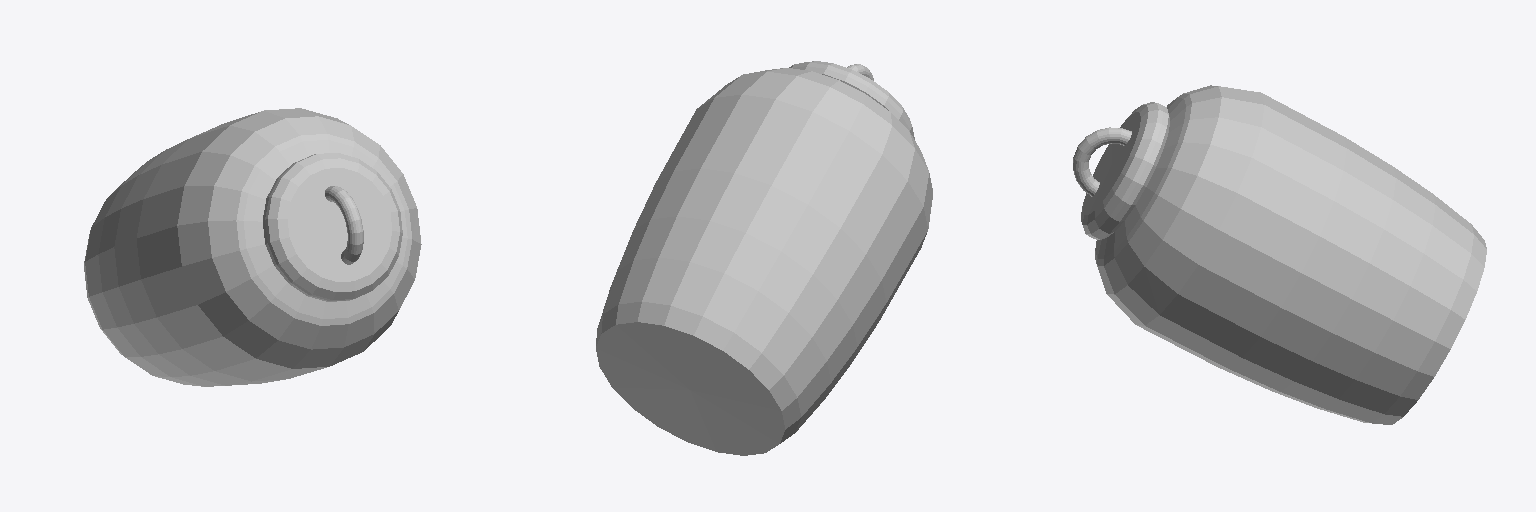
The model's file is Urn_W_2.obj.
The picture shows the model from 3 angles: view 1: azimuth 30°, elevation 25°; view 2: azimuth 150°, elevation 25°; view 3: azimuth 270°, elevation 25°; orthographic projection.
Parts seen in each view (by area): view 1: Undertaker_walk:Undertaker_4:Undertaker_4:Urn; view 2: Undertaker_walk:Undertaker_4:Undertaker_4:Urn; view 3: Undertaker_walk:Undertaker_4:Undertaker_4:Urn.
Part boxes in pixels (left/top/right/bottom): Undertaker_walk:Undertaker_4:Undertaker_4:Urn: left=84, top=108, right=421, bottom=386; Undertaker_walk:Undertaker_4:Undertaker_4:Urn: left=596, top=61, right=932, bottom=455; Undertaker_walk:Undertaker_4:Undertaker_4:Urn: left=1073, top=85, right=1486, bottom=424.
Bounding box in the file's own units: 0.4718 × 0.6233 × 0.7371.